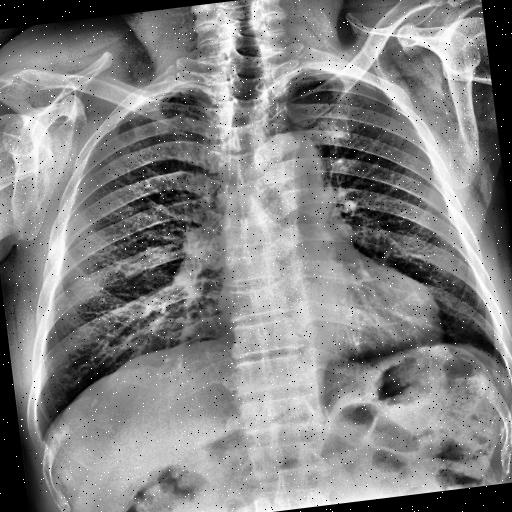0- Aortic enlargement: (253, 129, 324, 192), (252, 130, 324, 186), (256, 130, 326, 178)
11- Pleural thickening: (115, 81, 197, 124), (115, 83, 193, 111)
